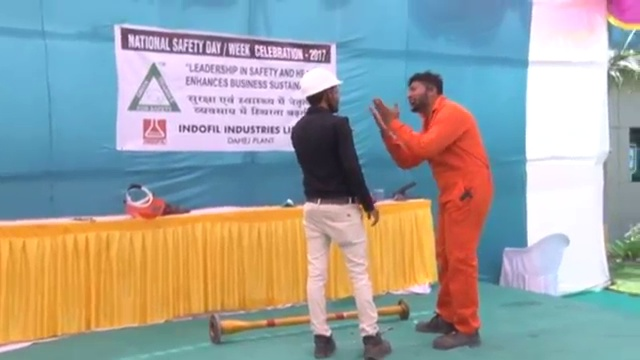helmet: (298, 65, 344, 97)
helmet_off: (406, 69, 446, 112)
helmet_on: (297, 65, 343, 113)
person: (368, 70, 494, 351), (288, 66, 393, 360)
